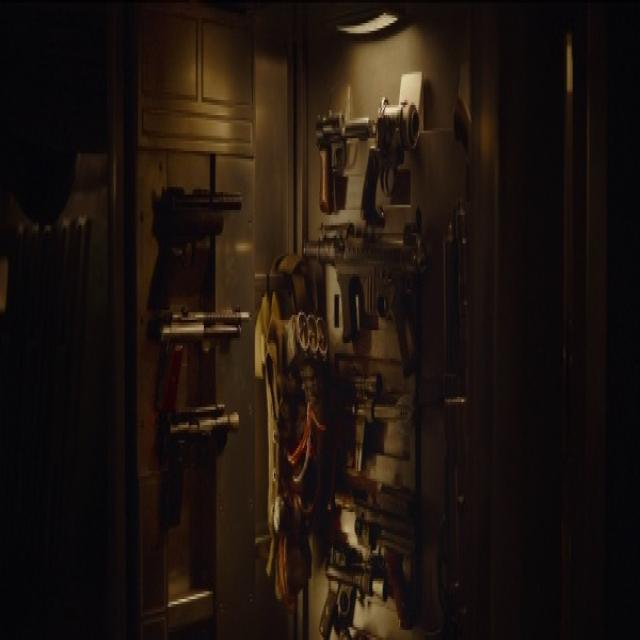rifle: (151, 298, 258, 430), (156, 399, 242, 544)
